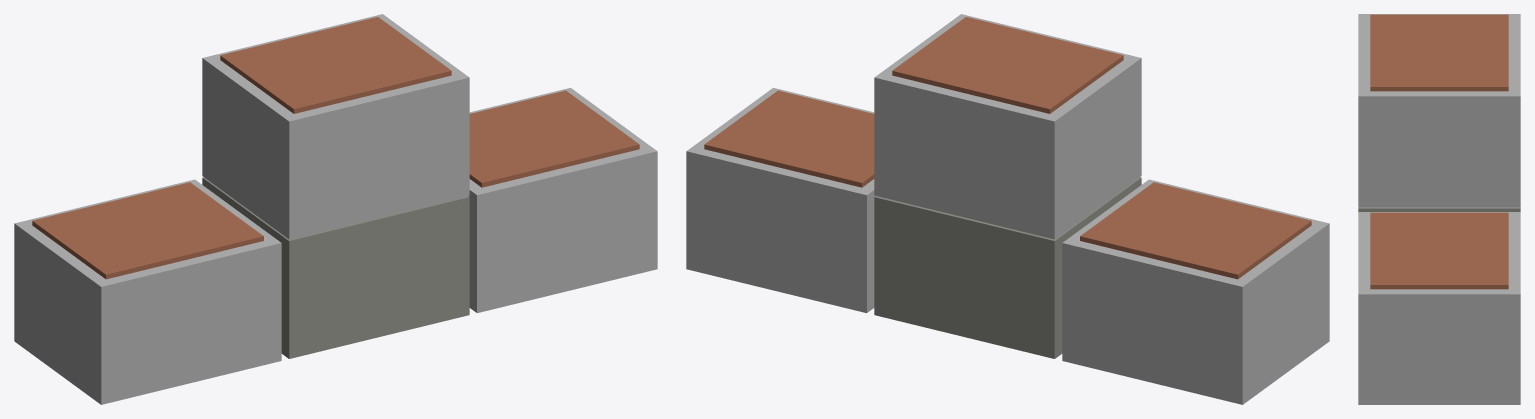
The model's file is SM_Palots_v4_ConFruta_LOD1.fbx.
The picture shows the model from 3 angles, left to right: view 1: azimuth 30°, elevation 25°; view 2: azimuth 150°, elevation 25°; view 3: azimuth 270°, elevation 25°; orthographic projection. The views are drawn at different scales.
Visible parts, largest first — view 1: SM_viveres_nules_v24_LOD1; view 2: SM_viveres_nules_v24_LOD1; view 3: SM_viveres_nules_v24_LOD1.
Part boxes in pixels (x1,y1,x2,y2): SM_viveres_nules_v24_LOD1: (14,14,657,404); SM_viveres_nules_v24_LOD1: (686,14,1329,404); SM_viveres_nules_v24_LOD1: (1358,14,1520,404).
Size of the model in its own units: 3.7 by 1.54 by 1.
